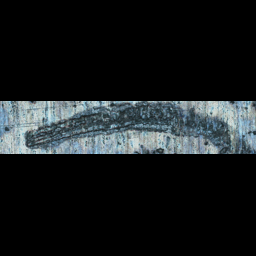d: (21, 101, 251, 152)
